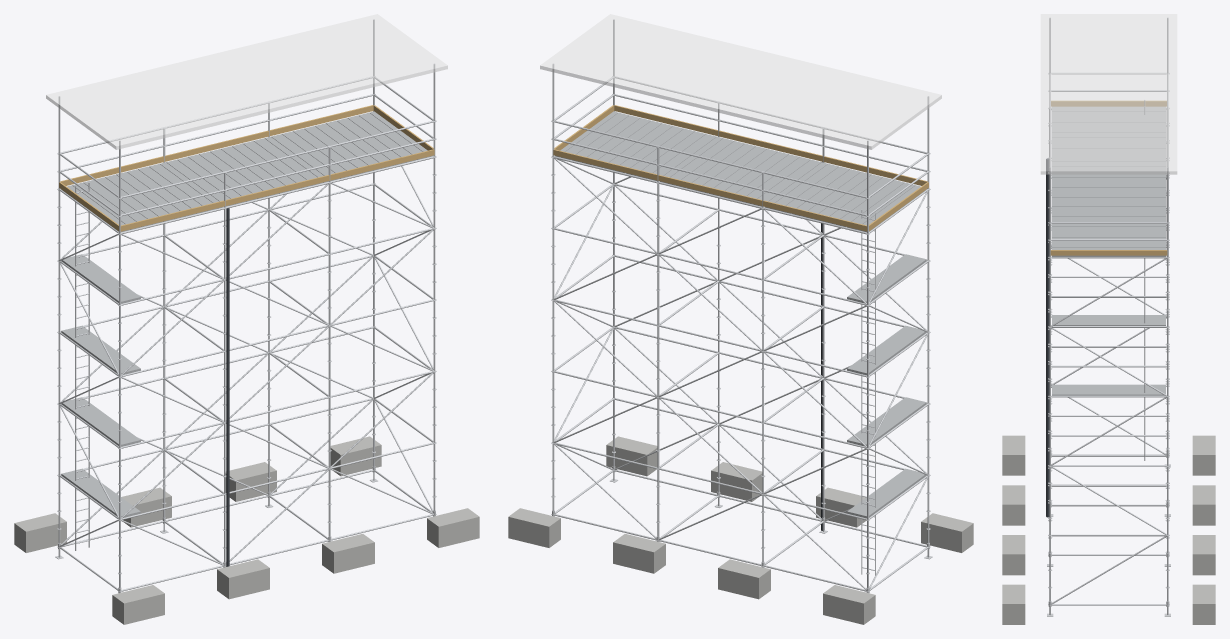
The model's file is SM_TourLayher.glb.
3 renders of one model, left to right at view 1: azimuth 30°, elevation 25°; view 2: azimuth 150°, elevation 25°; view 3: azimuth 270°, elevation 25°, orthographic. The views are drawn at different scales.
Parts seen in each view (by area): view 1: SM_TourLayher_459, SM_TourLayher_333, SM_TourLayher_332, SM_TourLayher_467, SM_TourLayher_461, SM_TourLayher_463, SM_TourLayher_465, SM_TourLayher_460, SM_TourLayher_468, SM_TourLayher_466, SM_TourLayher_464, SM_TourLayher_416 (+4 smaller); view 2: SM_TourLayher_459, SM_TourLayher_332, SM_TourLayher_333, SM_TourLayher_466, SM_TourLayher_460, SM_TourLayher_462, SM_TourLayher_464, SM_TourLayher_461, SM_TourLayher_467, SM_TourLayher_465, SM_TourLayher_406, SM_TourLayher_426 (+3 smaller); view 3: SM_TourLayher_459, SM_TourLayher_406, SM_TourLayher_468, SM_TourLayher_416, SM_TourLayher_462, SM_TourLayher_463, SM_TourLayher_460, SM_TourLayher_461, SM_TourLayher_464, SM_TourLayher_465, SM_TourLayher_466, SM_TourLayher_467 (+39 smaller).
Part boxes in pixels (x1,y1,x2,y2): SM_TourLayher_459: [46, 14, 447, 149]; SM_TourLayher_333: [120, 149, 434, 231]; SM_TourLayher_332: [60, 105, 373, 185]; SM_TourLayher_467: [427, 508, 479, 547]; SM_TourLayher_461: [112, 585, 164, 624]; SM_TourLayher_463: [217, 559, 269, 599]; SM_TourLayher_465: [322, 534, 374, 573]; SM_TourLayher_460: [14, 513, 66, 552]; SM_TourLayher_468: [226, 208, 229, 566]; SM_TourLayher_466: [330, 436, 381, 476]; SM_TourLayher_464: [225, 462, 276, 501]; SM_TourLayher_416: [61, 397, 140, 446]; SM_TourLayher_459: [540, 14, 941, 149]; SM_TourLayher_332: [553, 149, 867, 231]; SM_TourLayher_333: [614, 105, 927, 185]; SM_TourLayher_466: [508, 508, 560, 547]; SM_TourLayher_460: [823, 585, 875, 624]; SM_TourLayher_462: [718, 559, 770, 599]; SM_TourLayher_464: [613, 534, 665, 573]; SM_TourLayher_461: [921, 513, 973, 552]; SM_TourLayher_467: [606, 436, 657, 476]; SM_TourLayher_465: [711, 462, 762, 501]; SM_TourLayher_406: [847, 468, 926, 518]; SM_TourLayher_426: [847, 325, 926, 375]; SM_TourLayher_459: [1040, 14, 1177, 174]; SM_TourLayher_406: [1052, 384, 1165, 395]; SM_TourLayher_468: [1046, 158, 1049, 517]; SM_TourLayher_416: [1052, 315, 1165, 325]; SM_TourLayher_462: [1192, 485, 1215, 525]; SM_TourLayher_463: [1002, 485, 1025, 525]; SM_TourLayher_460: [1192, 435, 1215, 475]; SM_TourLayher_461: [1002, 435, 1025, 475]; SM_TourLayher_464: [1192, 535, 1215, 575]; SM_TourLayher_465: [1002, 535, 1025, 575]; SM_TourLayher_466: [1192, 584, 1215, 624]; SM_TourLayher_467: [1002, 584, 1025, 624].
Size of the model in its own units: 10.41 by 12.9 by 5.57.
